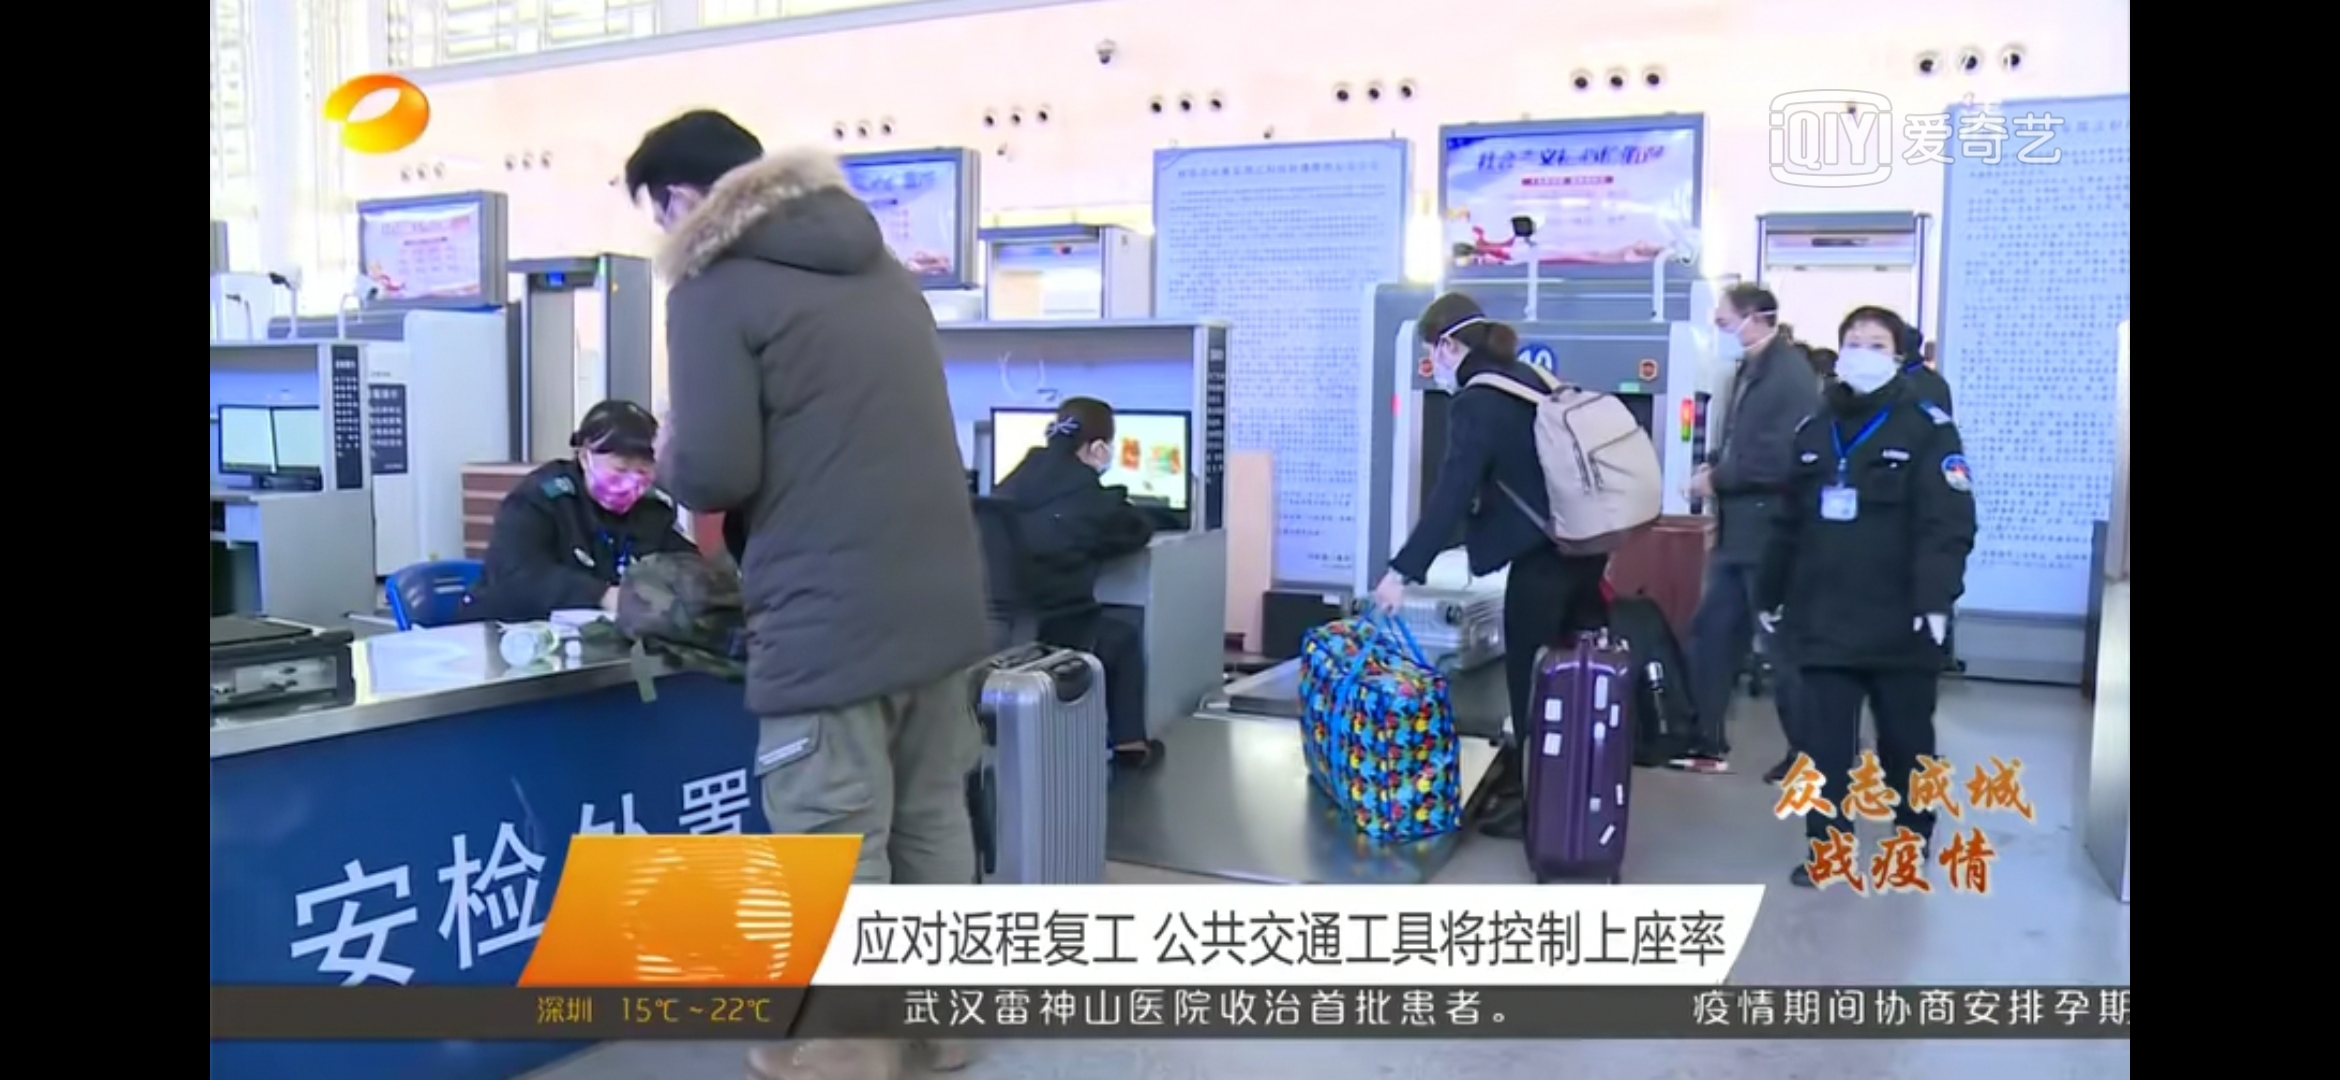correctlyWear: (576, 442, 654, 521), (1834, 330, 1903, 401), (1712, 306, 1770, 367), (1428, 333, 1474, 394)
